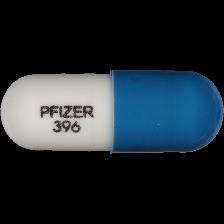24236-262: (0, 0, 224, 224)
